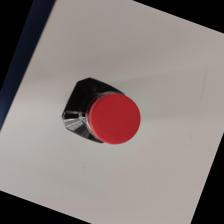Namngu: (60, 77, 143, 146)
